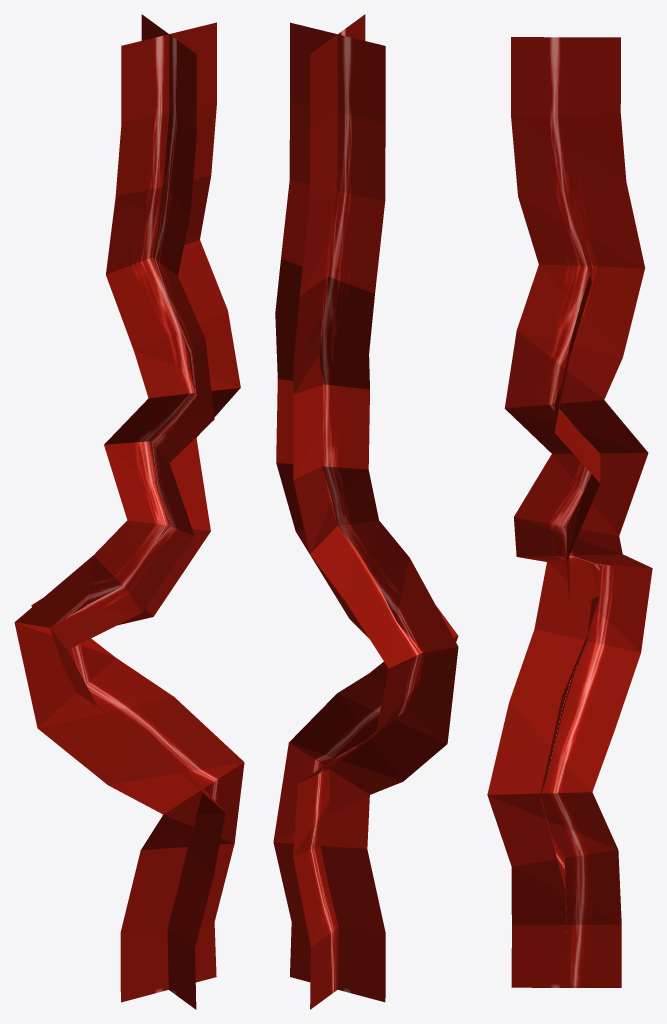
Rendered from tx_vehicle_fusheqiang_fire.obj.
The picture shows the model from 3 angles, left to right: view 1: azimuth 30°, elevation 25°; view 2: azimuth 150°, elevation 25°; view 3: azimuth 270°, elevation 25°; orthographic projection.
Parts seen in each view (by area): view 1: Plane07; view 2: Plane07; view 3: Plane07.
Boxes of the visible parts, bbox=[...] form: Plane07: bbox=[14, 14, 244, 1009]; Plane07: bbox=[273, 14, 458, 1009]; Plane07: bbox=[487, 37, 652, 987].
Size of the model in its own units: 42.56 by 191 by 30.08.
1 material, 1 textured.
